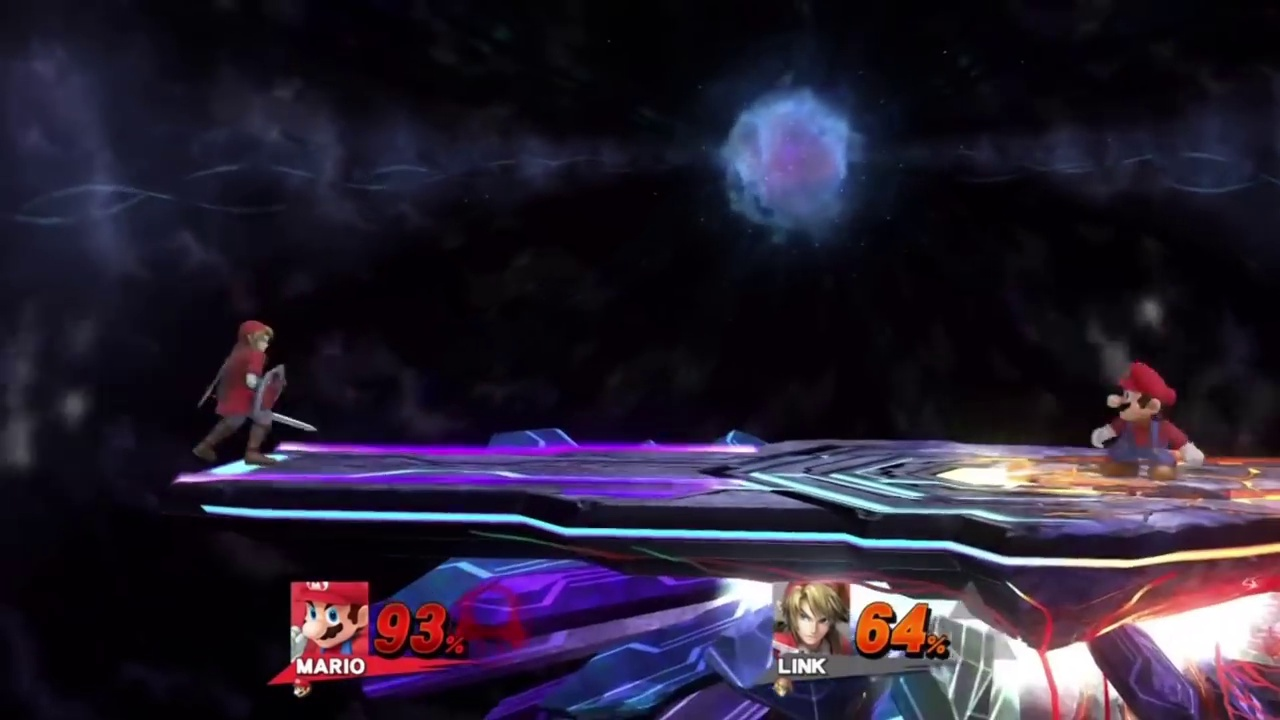Mario: (1092, 362, 1206, 478)
